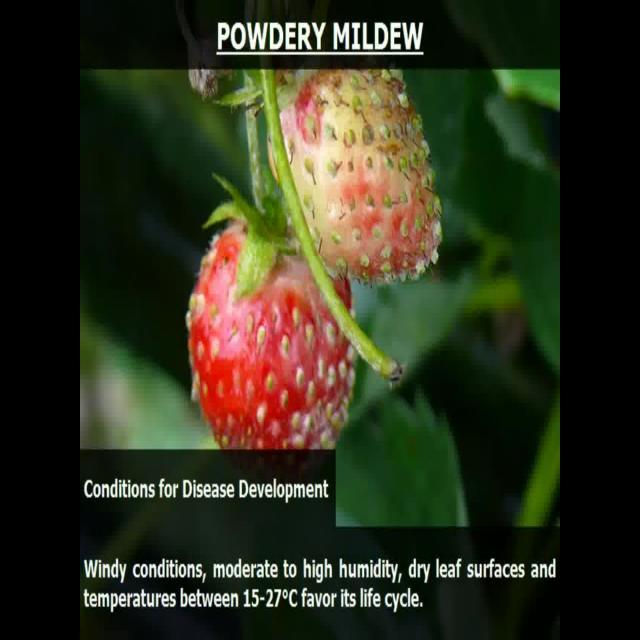Oído: (184, 215, 356, 450), (263, 75, 441, 283)
